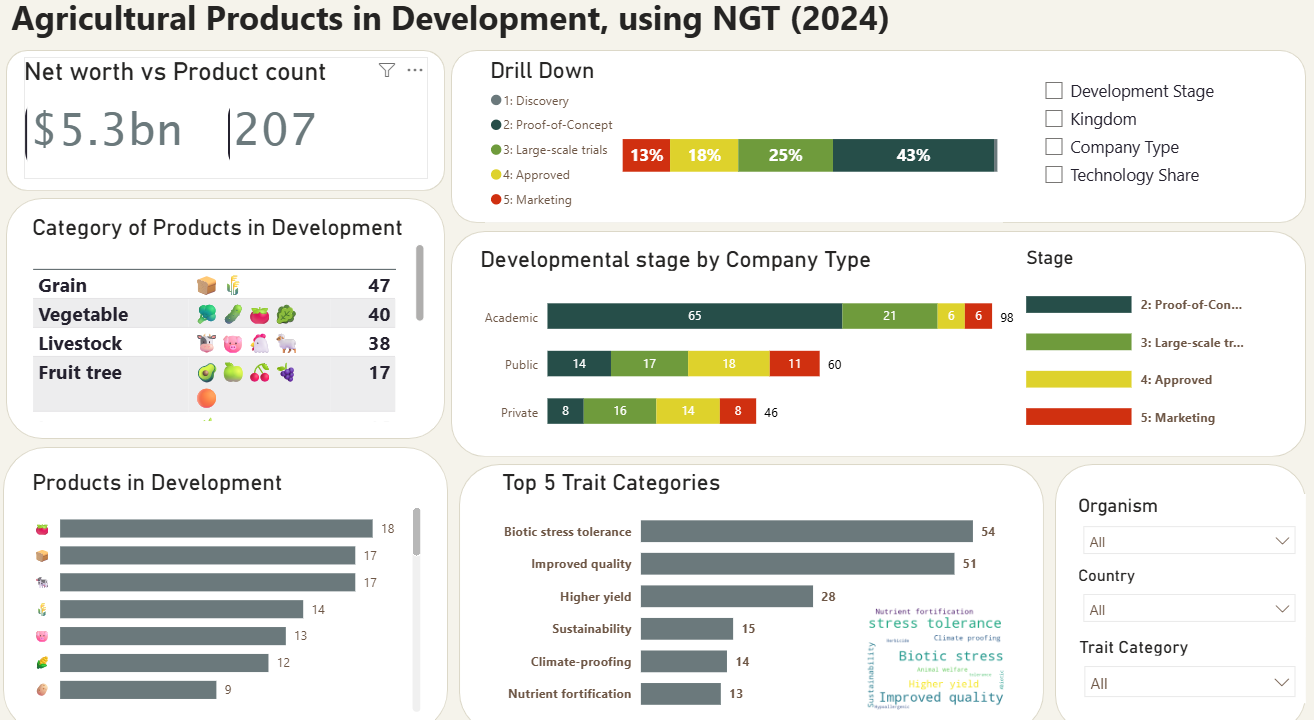

The page's visual inventory and layout, read from the dashboard file:
{"tool":"powerbi","page":{"name":"Main","canvas":[1280,720],"ordinal":0},"visuals":[{"type":"shape","box":[5.8,59.9,424.1,136.2],"z":0},{"type":"shape","box":[2.9,443.4,429.9,276.3],"z":1000},{"type":"shape","box":[5.8,202.9,424.1,232.8],"z":2000},{"type":"shape","box":[1019.2,459.8,242.5,259.9],"z":3000},{"type":"shape","box":[443.4,459.8,565.1,259.9],"z":4000},{"type":"shape","box":[435.7,234.7,826,218.3],"z":5000},{"type":"shape","box":[435.7,59.9,826,167.1],"z":6000},{"type":"barChart","title":"Developmental stage by Company Type","fields":{"Y":["CountNonNull(tabProductMaster.Stage of Development_less categories)"],"Series":["tabProductMaster.Stage of Development_less categories"],"Category":["tabProductMaster.Company type"]},"box":[458.9,249.2,525.5,198],"z":7000},{"type":"slicer","title":"Country","fields":{"Values":["tabProductMaster.Country"]},"box":[1036.6,557.4,225.1,68.6],"z":8000},{"type":"slicer","title":"Trait Category","fields":{"Values":["tabProductMaster.Trait type"]},"box":[1037.5,626,224.1,64.7],"z":9000},{"type":"cardVisual","title":"Net worth   vs   Product count","fields":{"Data":["Images_support.Gene Editing: Net worth, 2023","tabProductMaster.ProductCount"]},"box":[23.2,66.7,390.3,117.9],"z":10000},{"type":"tableEx","title":"Category of Products in Development","fields":{"Values":["tabProductMaster.Organism Category1","Icon for Categories.concatenated icons","tabProductMaster.Organism Category"]},"box":[26.1,218.3,389.3,204.8],"z":11000},{"type":"textbox","box":[6,1.2,925.1,53.9],"z":12000},{"type":"slicer","fields":{"Values":["SplitBy.SplitBy"]},"box":[997,80.2,235.7,138.1],"z":13000},{"type":"clusteredBarChart","title":"Top 5 Trait Categories","fields":{"Y":["tabProductMaster.ProductCount"],"Category":["tabProductMaster.Trait type"]},"box":[480.1,464.7,500.4,246.3],"z":14000},{"type":"clusteredBarChart","title":"Products in Development","fields":{"Y":["tabProductMaster.ProductCount"],"Category":["Unichar no NULLs.Icons"]},"box":[26.1,464.7,385.4,239.6],"z":15000},{"type":"hundredPercentStackedBarChart","title":"Drill Down","fields":{"Series":["tabProductMaster.Stage of Development_less categories"],"Y":["CountNonNull(tabProductMaster.Technology)"]},"box":[468.5,66.7,500.4,160.4],"z":16000},{"type":"image","box":[827.9,592.2,152.6,112.1],"z":17000},{"type":"barChart","title":"Stage","fields":{"Category":["tabProductMaster.Stage of Development_less categories"],"Y":["tabProductMaster.StageLegend"]},"box":[986.3,249.2,233.8,194.2],"z":18000},{"type":"slicer","title":"Organism","fields":{"Values":["tabProductMaster.Organisms"]},"box":[1036.6,488.8,225.1,68.6],"z":19000}]}

Visuals, with their boxes in screenshot pixels (x1, y1, x2, y2), scaled from the page's 1280x720 canvas onto the 1314x720 screenshot:
shape: [6,60,441,196]
shape: [3,443,444,719]
shape: [6,203,441,436]
shape: [1046,460,1295,719]
shape: [455,460,1035,719]
shape: [447,235,1295,453]
shape: [447,60,1295,227]
"Developmental stage by Company Type" barChart: [471,249,1011,447]
"Country" slicer: [1064,557,1295,626]
"Trait Category" slicer: [1065,626,1295,691]
"Net worth   vs   Product count" cardVisual: [24,67,424,185]
"Category of Products in Development" tableEx: [27,218,426,423]
textbox: [6,1,956,55]
slicer - SplitBy.SplitBy: [1023,80,1265,218]
"Top 5 Trait Categories" clusteredBarChart: [493,465,1007,711]
"Products in Development" clusteredBarChart: [27,465,422,704]
"Drill Down" hundredPercentStackedBarChart: [481,67,995,227]
image: [850,592,1007,704]
"Stage" barChart: [1012,249,1253,443]
"Organism" slicer: [1064,489,1295,557]
